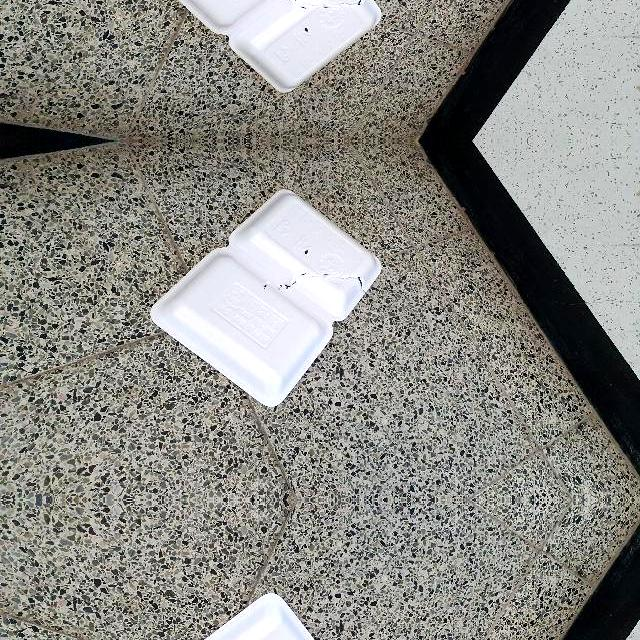Styrofoam: (150, 190, 384, 406), (150, 189, 381, 405), (150, 0, 383, 90), (180, 0, 381, 91), (150, 591, 383, 640)
